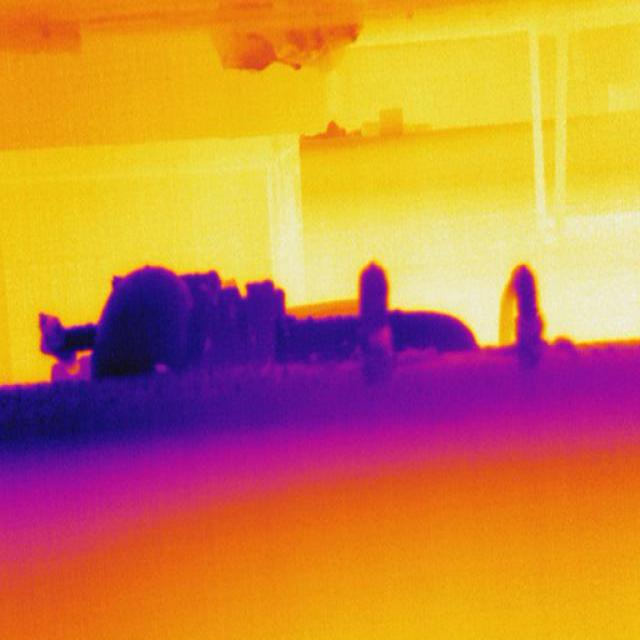leakage: (4, 262, 638, 459)
